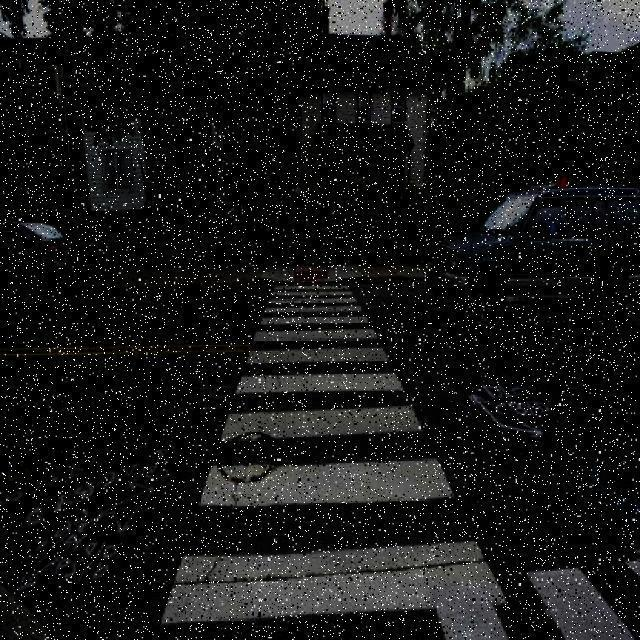crosswalk: (154, 286, 509, 625)
